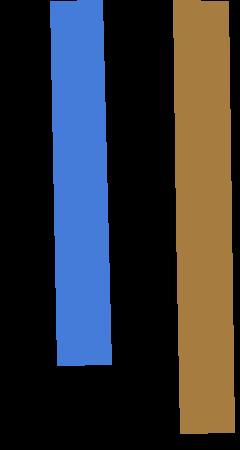parkingspot: (173, 0, 234, 433), (50, 0, 111, 365)
